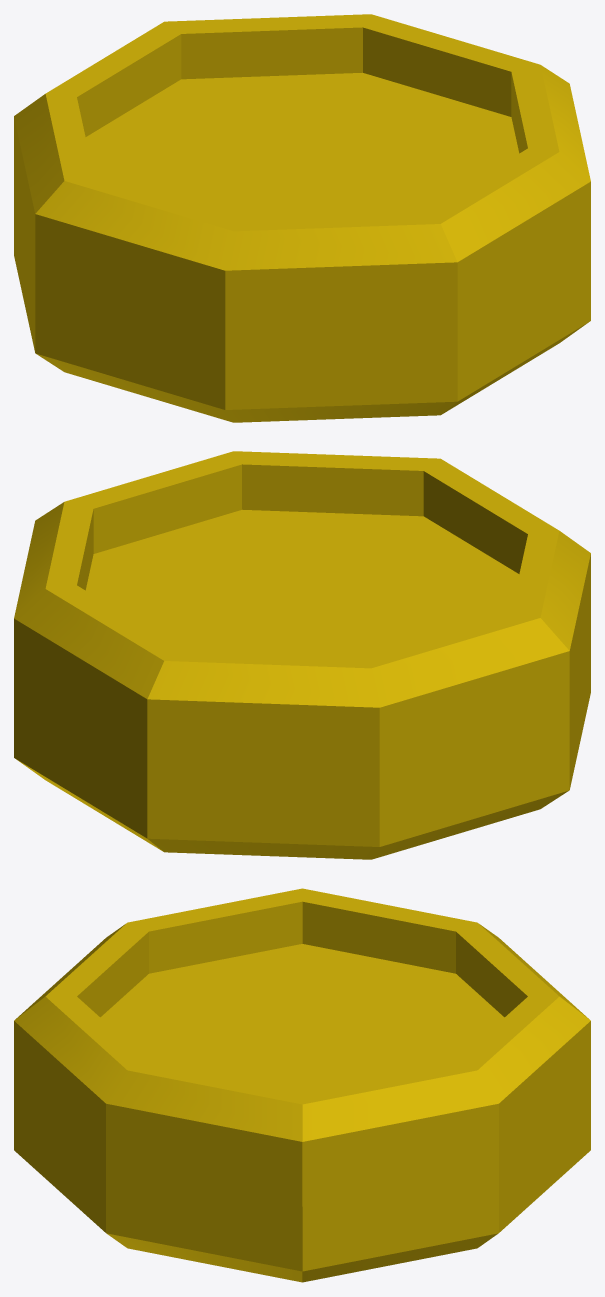
Rendered from goldCoin.fbx.
The picture shows the model from 3 angles, top to bottom: view 1: azimuth 30°, elevation 25°; view 2: azimuth 150°, elevation 25°; view 3: azimuth 270°, elevation 25°; orthographic projection. The views are drawn at different scales.
Visible parts, largest first — view 1: goldCoin; view 2: goldCoin; view 3: goldCoin.
Boxes of the visible parts, x1,y1,x2,y2 form: goldCoin: (14,14,590,422); goldCoin: (14,451,590,859); goldCoin: (14,888,590,1282).
Bounding box in the file's own units: 14.61 × 5 × 14.69.
